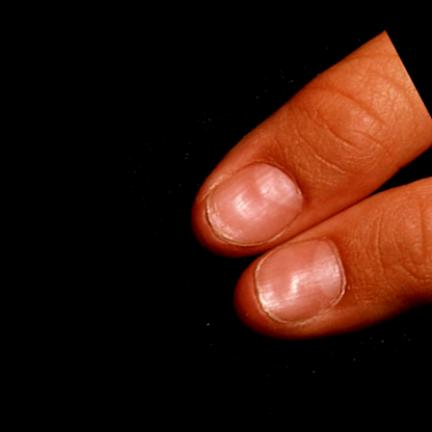Nail: (206, 162, 304, 244), (255, 239, 343, 323)
